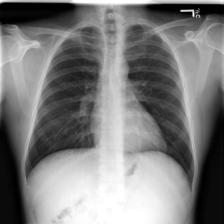normal: (21, 19, 198, 193)
